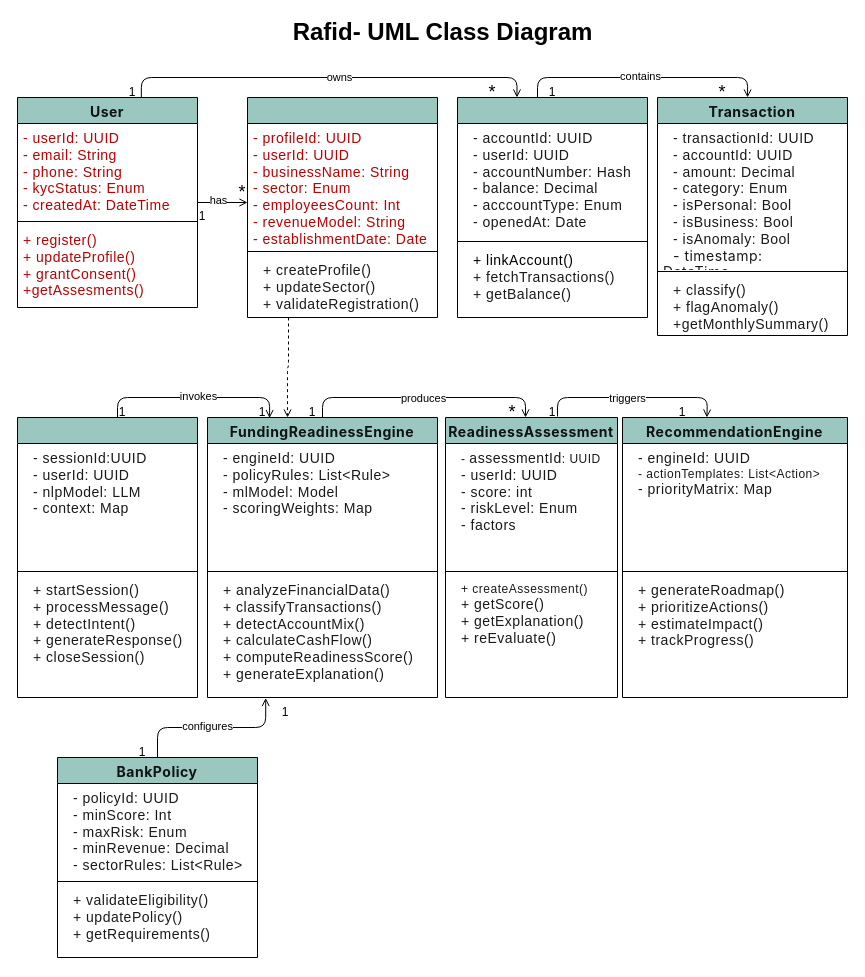
This 865x977 diagram has some shape labels left out. Each missing label, with the box of its shape:
BankAccount: (456, 96, 648, 318)
BusinessProfile: (246, 96, 438, 318)
ConversationManager: (16, 416, 198, 698)
